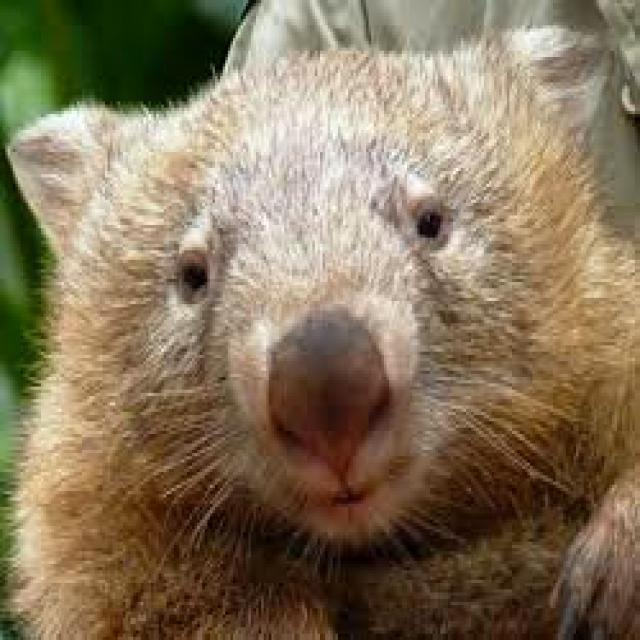wombats: (5, 29, 637, 637)
